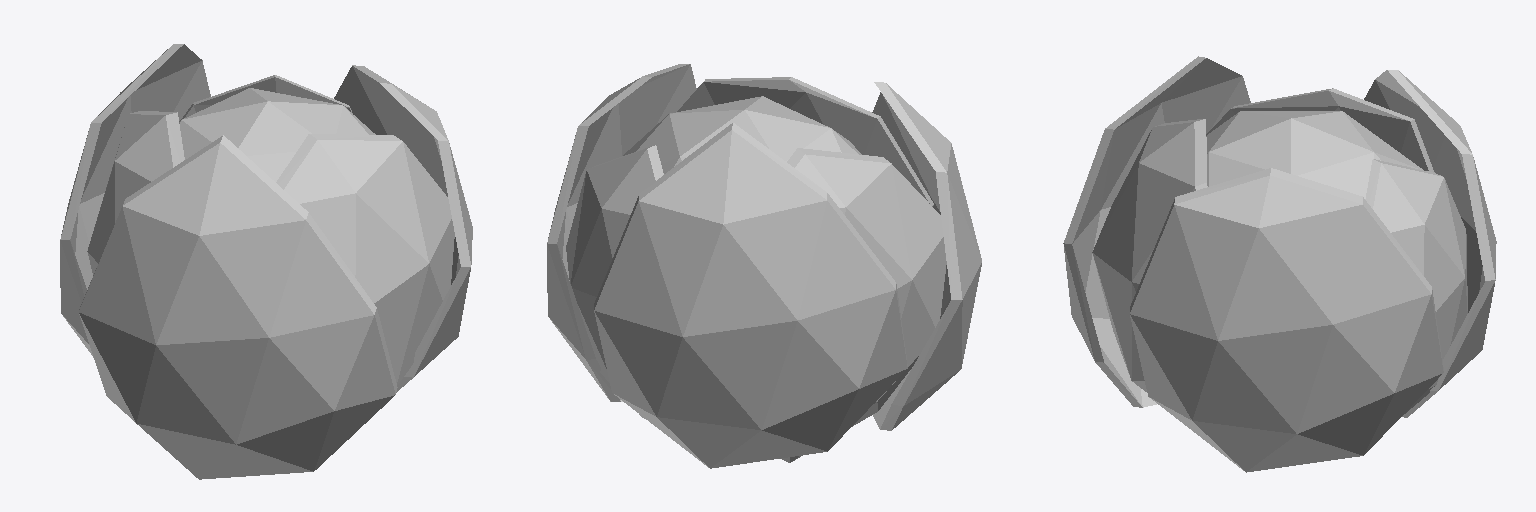
Rendered from cabbageStage1.obj.
3 views of the same model, side by side, from view 1: azimuth 30°, elevation 25°; view 2: azimuth 150°, elevation 25°; view 3: azimuth 270°, elevation 25° (orthographic).
Visible parts, largest first — view 1: Cabbage1; view 2: Cabbage1; view 3: Cabbage1.
Boxes of the visible parts, x1,y1,x2,y2 form: Cabbage1: [60, 44, 472, 479]; Cabbage1: [547, 64, 981, 468]; Cabbage1: [1063, 56, 1496, 472].
Bounding box in the file's own units: 0.2989 × 0.2722 × 0.3013.